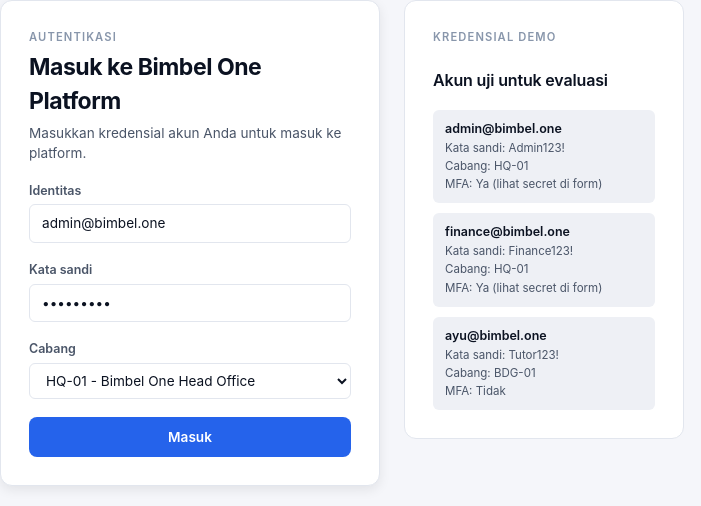
LoginForm › shows loading state on submit
The image size is (701, 506).
Click the button "Masuk". click: point(190, 437)
box: [29, 417, 351, 457]
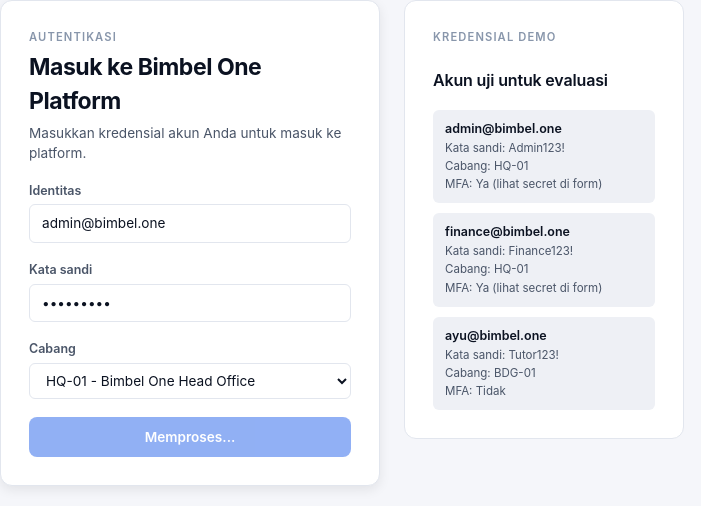
expect the button "Memproses..." is shown: met, box [29, 417, 351, 457]
